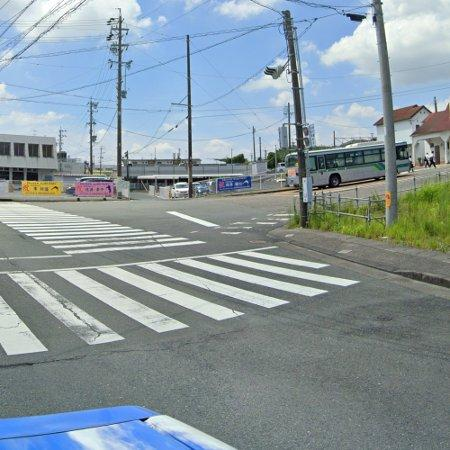crosswalks: (0, 201, 209, 255)
